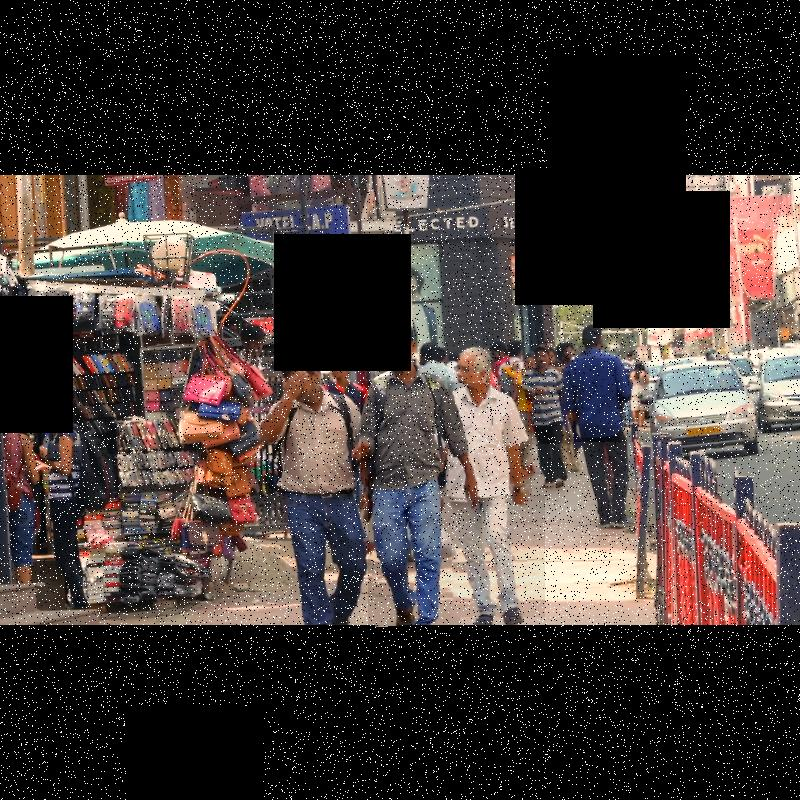Jeans: (368, 474, 460, 626), (266, 494, 360, 624)
Pant: (451, 495, 545, 617)
Shirt: (361, 381, 467, 487), (443, 384, 532, 499), (261, 402, 359, 498), (567, 358, 649, 442)
Tshirt: (523, 368, 573, 444)
